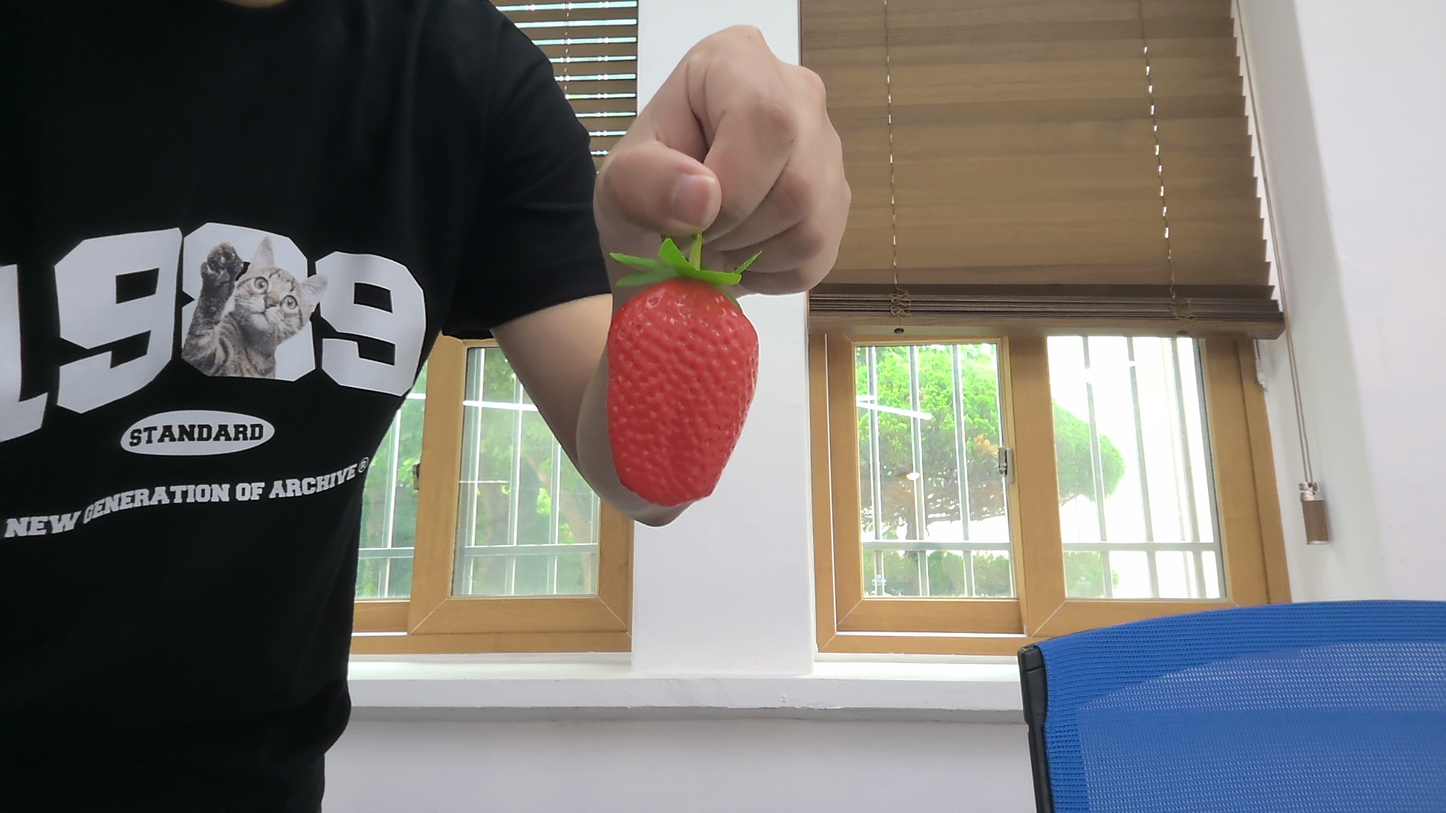strawberry: (603, 248, 766, 509)
